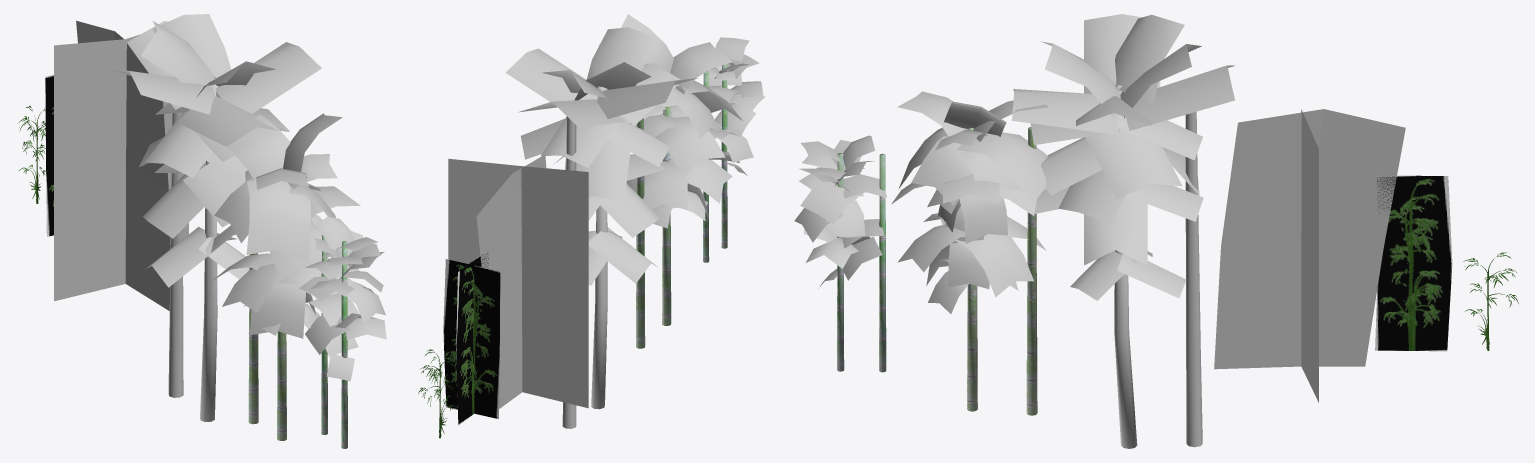
Rendered from bamboo_set.obj.
3 views of the same model, side by side, from view 1: azimuth 30°, elevation 25°; view 2: azimuth 150°, elevation 25°; view 3: azimuth 270°, elevation 25° (orthographic). The views are drawn at different scales.
Visible parts, largest first — view 1: bamboo_shrub_1, bamboo_tree_3_Cylinder.002, bamboo_tree_2_Cylinder.001, bamboo_tree_1_Cylinder, bamboo_stick_3_Cylinder.005, bamboo_shrub_3, bamboo_stick_2_Cylinder.004, bamboo_shrub_2, bamboo_stick_1_Cylinder.003; view 2: bamboo_shrub_1, bamboo_tree_3_Cylinder.002, bamboo_tree_2_Cylinder.001, bamboo_shrub_3, bamboo_tree_1_Cylinder, bamboo_stick_2_Cylinder.004, bamboo_stick_3_Cylinder.005, bamboo_shrub_2, bamboo_stick_1_Cylinder.003; view 3: bamboo_shrub_1, bamboo_tree_3_Cylinder.002, bamboo_tree_2_Cylinder.001, bamboo_shrub_3, bamboo_tree_1_Cylinder, bamboo_stick_3_Cylinder.005, bamboo_stick_2_Cylinder.004, bamboo_stick_1_Cylinder.003, bamboo_shrub_2.
Part boxes in pixels (x1,y1,x2,y2): bamboo_shrub_1: [54, 20, 188, 310]; bamboo_tree_3_Cylinder.002: [106, 14, 321, 421]; bamboo_tree_2_Cylinder.001: [211, 113, 360, 440]; bamboo_tree_1_Cylinder: [299, 216, 386, 448]; bamboo_stick_3_Cylinder.005: [168, 112, 183, 397]; bamboo_shrub_3: [45, 75, 53, 236]; bamboo_stick_2_Cylinder.004: [248, 253, 258, 424]; bamboo_shrub_2: [18, 105, 45, 203]; bamboo_stick_1_Cylinder.003: [321, 235, 327, 434]; bamboo_shrub_1: [448, 154, 588, 408]; bamboo_tree_3_Cylinder.002: [505, 27, 698, 409]; bamboo_tree_2_Cylinder.001: [598, 14, 742, 325]; bamboo_shrub_3: [443, 252, 500, 425]; bamboo_tree_1_Cylinder: [707, 37, 764, 248]; bamboo_stick_2_Cylinder.004: [636, 118, 645, 348]; bamboo_stick_3_Cylinder.005: [562, 116, 576, 428]; bamboo_shrub_2: [418, 349, 457, 438]; bamboo_stick_1_Cylinder.003: [703, 71, 709, 262]; bamboo_shrub_1: [1214, 109, 1405, 402]; bamboo_tree_3_Cylinder.002: [1012, 14, 1235, 448]; bamboo_tree_2_Cylinder.001: [891, 91, 1048, 411]; bamboo_shrub_3: [1375, 175, 1452, 351]; bamboo_tree_1_Cylinder: [794, 135, 886, 371]; bamboo_stick_3_Cylinder.005: [1185, 111, 1202, 447]; bamboo_stick_2_Cylinder.004: [1026, 127, 1037, 415]; bamboo_stick_1_Cylinder.003: [879, 153, 886, 372]; bamboo_shrub_2: [1463, 252, 1518, 350].
Size of the model in its own units: 3.3 by 6.92 by 11.1.
